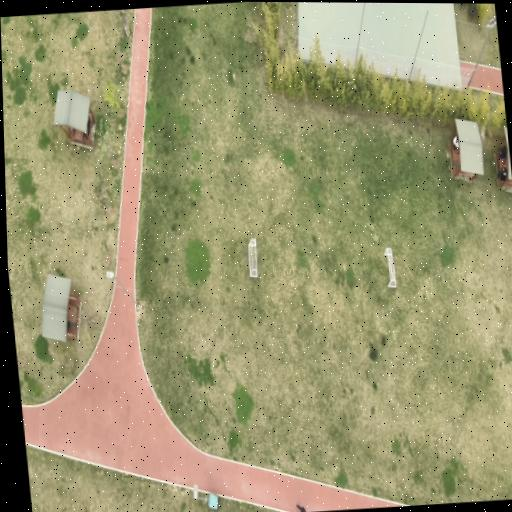person: (500, 167, 508, 181), (499, 147, 507, 160), (453, 135, 459, 148), (297, 505, 306, 511)
